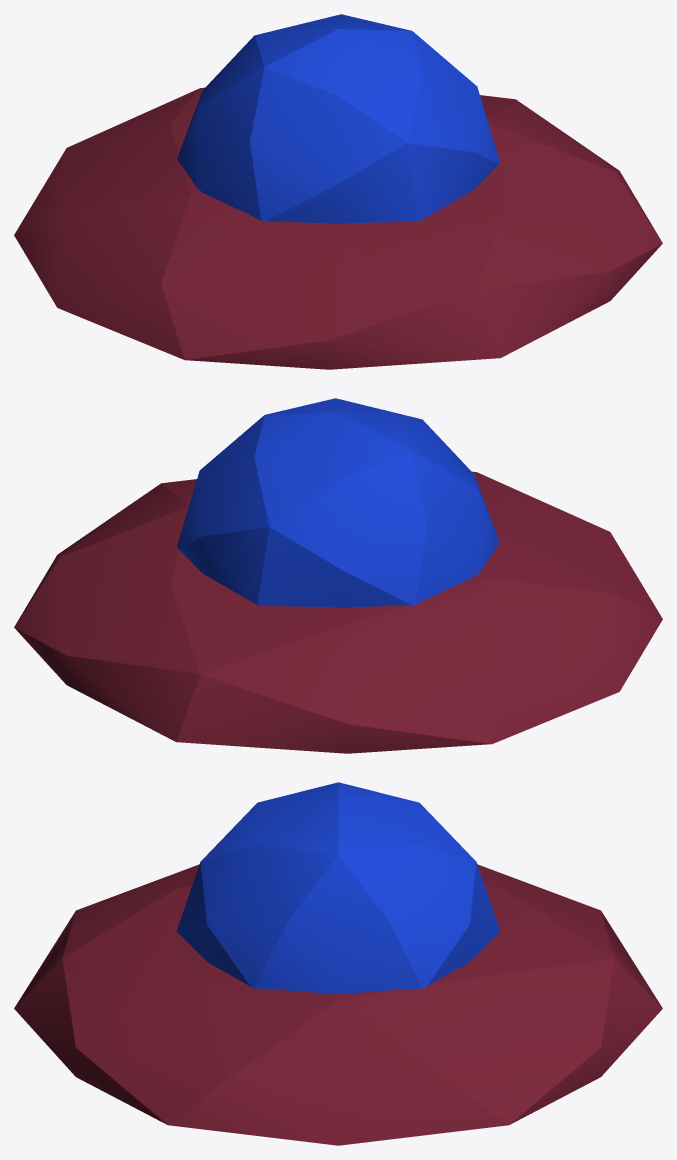
The model's file is enemyspaceship_recolor_V1.fbx.
3 views of the same model, one above another, from view 1: azimuth 30°, elevation 25°; view 2: azimuth 150°, elevation 25°; view 3: azimuth 270°, elevation 25° (orthographic).
Visible parts, largest first — view 1: mergedBlocks; view 2: mergedBlocks; view 3: mergedBlocks.
Part boxes in pixels (x1=…): mergedBlocks: x1=14, y1=14, x2=662, y2=369; mergedBlocks: x1=14, y1=398, x2=662, y2=753; mergedBlocks: x1=14, y1=782, x2=662, y2=1145.
Bounding box in the file's own units: 40 × 16.3 × 40.
